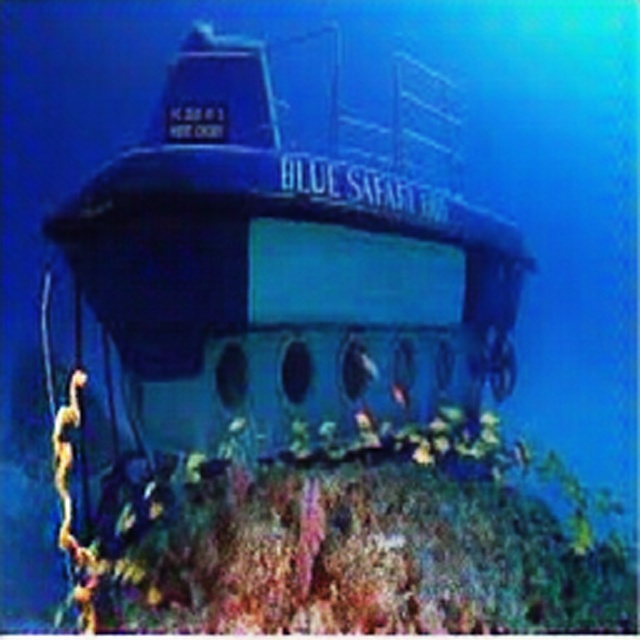submarine: (32, 30, 569, 462)
